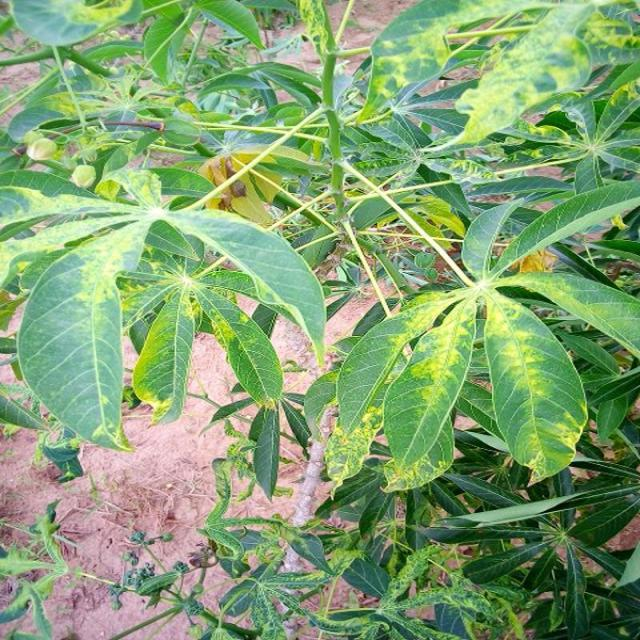cassava leaf: (2, 166, 328, 454), (484, 287, 590, 484), (382, 288, 478, 491)
